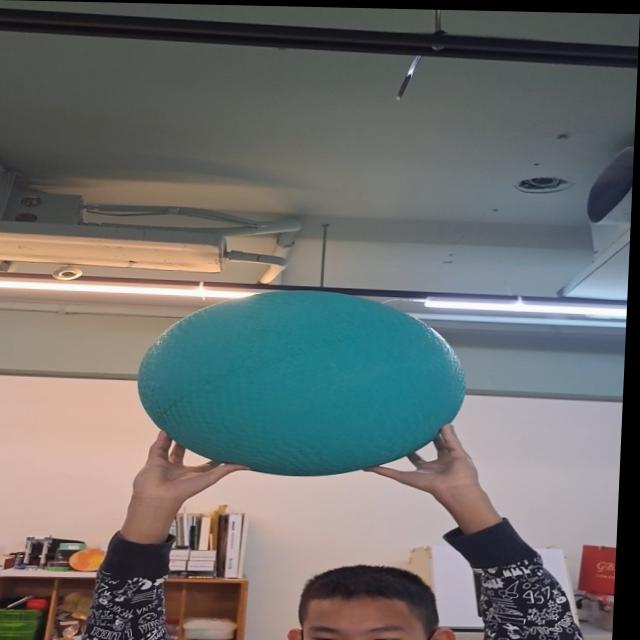ALGAE: (134, 286, 472, 482)
